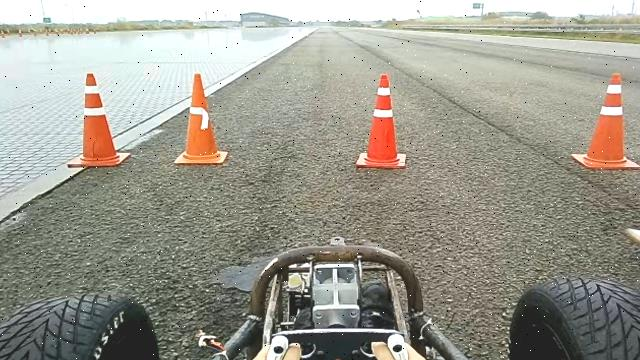red cone: (571, 72, 640, 170), (66, 72, 131, 168), (174, 72, 228, 166), (355, 73, 407, 169)
